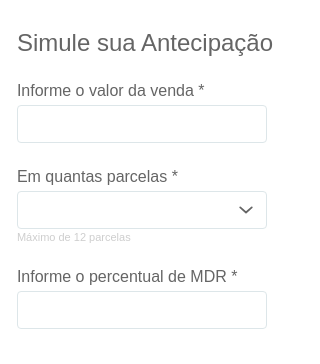
it: Should see error message when mdr is not correctly filled
Type "120" into the field with test id "mdr" at [142, 310], box [17, 291, 267, 329]
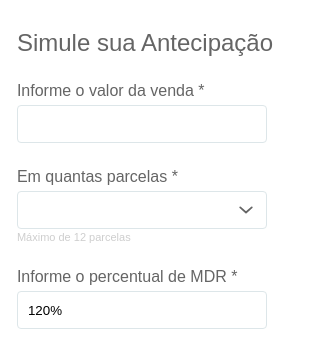
Type "1000" into the field with test id "amount" at [142, 124], box [17, 105, 267, 143]
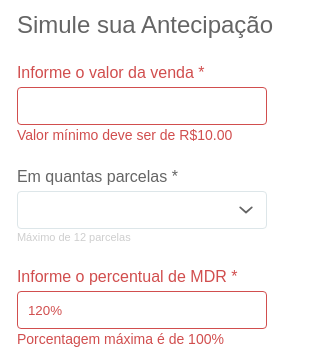
Now the text "Porcentagem máxima é de 100%" is shown, box [17, 331, 224, 347]
